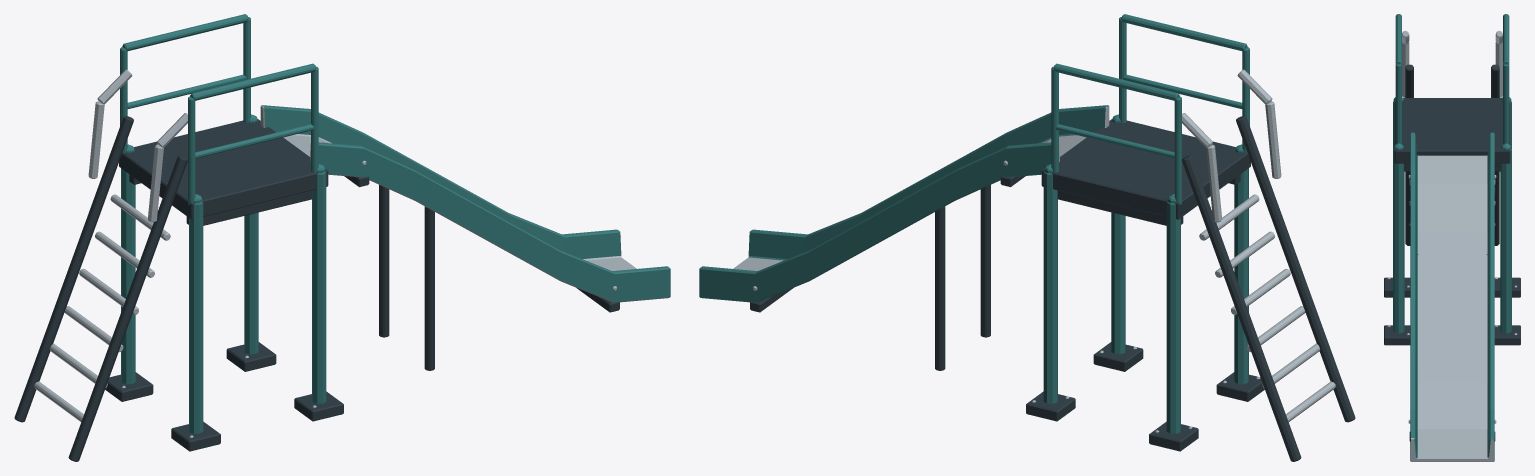
Rendered from b09_straight_slide.glb.
3 views of the same model, side by side, from view 1: azimuth 30°, elevation 25°; view 2: azimuth 150°, elevation 25°; view 3: azimuth 270°, elevation 25° (orthographic). The views are drawn at different scales.
Visible parts, largest first — view 1: b09_straight_slide; view 2: b09_straight_slide; view 3: b09_straight_slide.
Boxes of the visible parts, <box> form: b09_straight_slide: <box>14,14,670,461</box>; b09_straight_slide: <box>699,14,1355,461</box>; b09_straight_slide: <box>1384,14,1520,461</box>.
Size of the model in its own units: 4.11 by 2.27 by 1.02.
